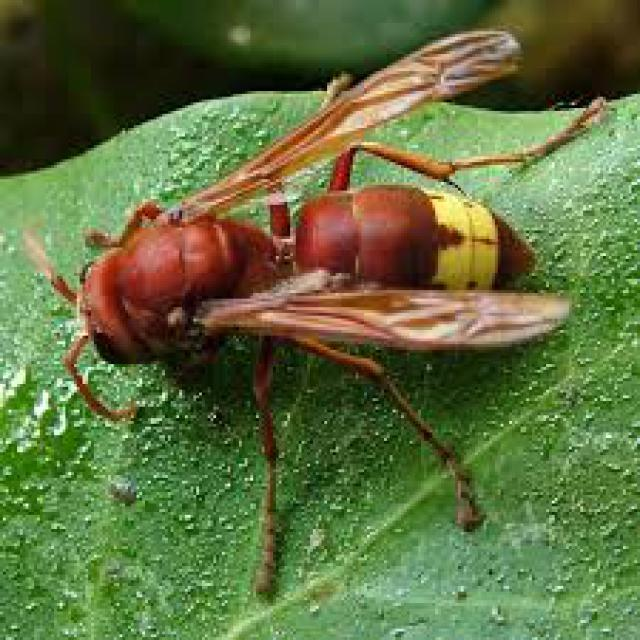Vespa Orientalis: (12, 19, 636, 613)
